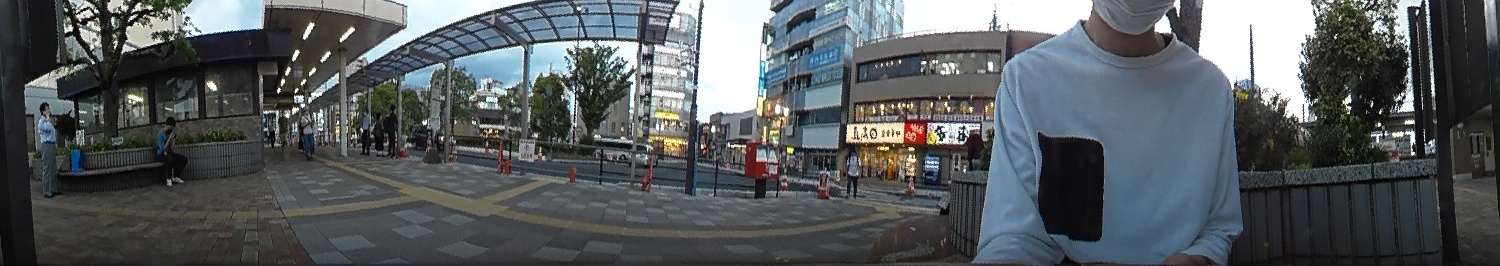difficult_person: (936, 133, 985, 204), (298, 106, 321, 162), (384, 96, 403, 158), (841, 144, 862, 194), (357, 103, 373, 151), (275, 108, 288, 154), (372, 110, 385, 155), (263, 114, 277, 149)
person: (34, 99, 65, 197), (148, 113, 185, 179)
